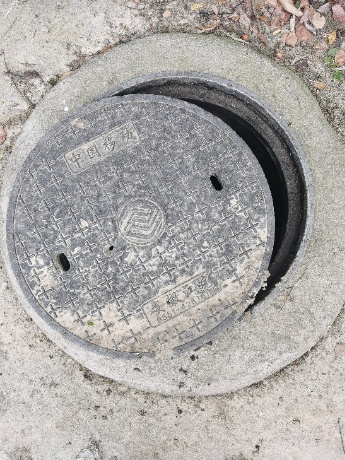uncovered: (5, 71, 314, 358)
